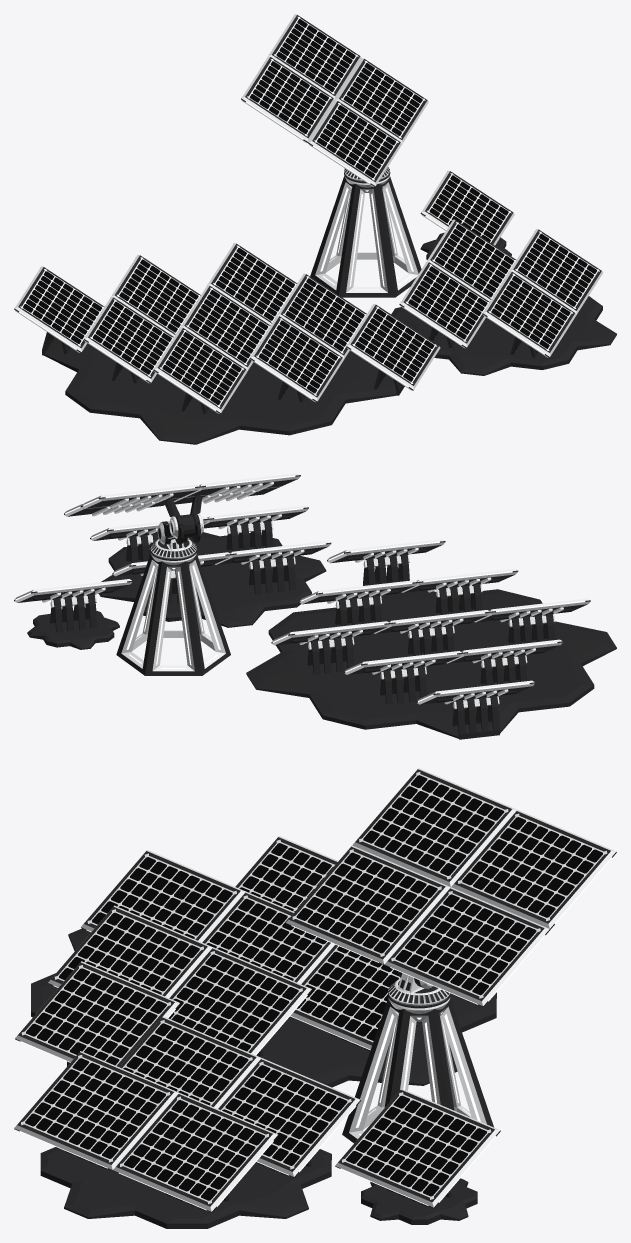
File: solar_panels.glb
3 views of the same model, one above another, from view 1: azimuth 30°, elevation 25°; view 2: azimuth 150°, elevation 25°; view 3: azimuth 270°, elevation 25° (orthographic). The views are drawn at different scales.
Parts seen in each view (by area): view 1: SolarPanelBigComplex_Foundation, SolarPanelTowerComplex_Foundation, SolarPanelComplex_Foundation, SolarPanel_Panel.015, SolarPanel_Panel.017, SolarPanel_Panel.007, SolarPanel_Panel.011, SolarPanel_Panel.001, SolarPanel_Panel.002, SolarPanel_Panel.005, SolarPanel_Panel.012, SolarPanel_Panel.014 (+9 smaller); view 2: SolarPanelBigComplex_Foundation, SolarPanelTowerComplex_Foundation, SolarPanelComplex_Foundation, SolarPanel_Foundation, SolarPanel_Body.008, SolarPanel_Body.001, SolarPanel_Body, SolarPanel_Body.006, SolarPanel_Body.009, SolarPanel_Body.011, SolarPanel_Body.013, SolarPanel_Body.005 (+26 smaller); view 3: SolarPanelComplex_Foundation, SolarPanel_Panel.008, SolarPanel_Panel, SolarPanel_Panel.003, SolarPanel_Panel.004, SolarPanel_Panel.007, SolarPanel_Panel.002, SolarPanel_Panel.001, SolarPanelTowerComplex_Foundation, SolarPanel_Panel.015, SolarPanel_Panel.016, SolarPanel_Panel.006 (+9 smaller).
Part boxes in pixels (x1,y1,x2,y2): SolarPanelBigComplex_Foundation: (44,337,396,444); SolarPanelTowerComplex_Foundation: (310,171,421,297); SolarPanelComplex_Foundation: (391,296,616,375); SolarPanel_Panel.015: (346,304,440,390); SolarPanel_Panel.017: (250,315,343,402); SolarPanel_Panel.007: (482,271,576,357); SolarPanel_Panel.011: (153,327,247,413); SolarPanel_Panel.001: (241,56,334,142); SolarPanel_Panel.002: (308,100,402,186); SolarPanel_Panel.005: (399,261,489,348); SolarPanel_Panel.012: (14,266,104,352); SolarPanel_Panel.014: (84,297,173,383); SolarPanelBigComplex_Foundation: (246,589,616,738); SolarPanelTowerComplex_Foundation: (116,549,230,675); SolarPanelComplex_Foundation: (99,532,326,627); SolarPanel_Foundation: (27,610,119,649); SolarPanel_Body.008: (435,690,516,739); SolarPanel_Body.001: (232,551,313,594); SolarPanel_Body: (33,589,114,632); SolarPanel_Body.006: (290,631,371,674); SolarPanel_Body.009: (363,661,444,704); SolarPanel_Body.011: (346,549,427,585); SolarPanel_Body.013: (418,579,499,614); SolarPanel_Body.005: (390,620,472,655); SolarPanelComplex_Foundation: (40,1147,331,1228); SolarPanel_Panel.008: (113,1093,278,1212); SolarPanel_Panel: (335,1088,500,1208); SolarPanel_Panel.003: (384,887,549,1007); SolarPanel_Panel.004: (451,810,616,929); SolarPanel_Panel.007: (14,1051,178,1170); SolarPanel_Panel.002: (285,845,450,965); SolarPanel_Panel.001: (352,768,517,886); SolarPanelTowerComplex_Foundation: (342,992,493,1143); SolarPanel_Panel.015: (15,961,180,1066); SolarPanel_Panel.016: (168,947,312,1055); SolarPanel_Panel.006: (218,1058,360,1177).
Size of the model in its own units: 6.6 by 2.57 by 4.93.
1 material, 1 textured.
